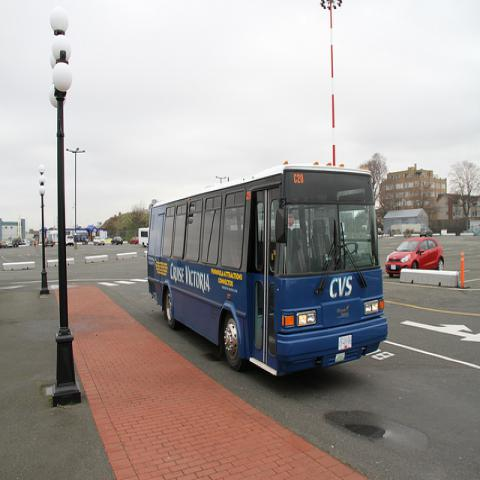bus: (146, 167, 387, 378)
car: (385, 237, 445, 278), (420, 227, 433, 237), (93, 236, 105, 246), (111, 236, 123, 246), (1, 240, 14, 248), (44, 237, 54, 247), (66, 235, 74, 247), (130, 236, 138, 243), (377, 228, 384, 235), (142, 240, 149, 247)
